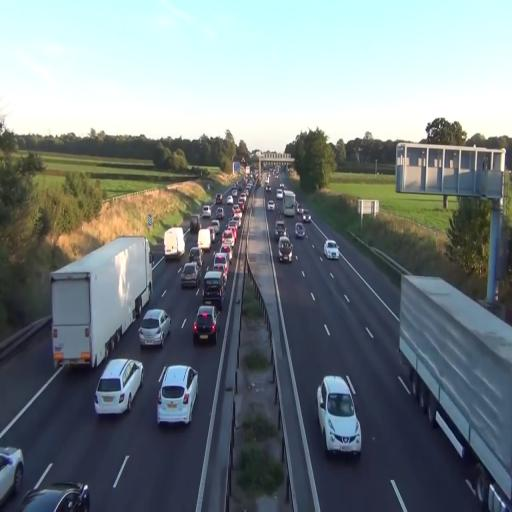vehicle: (50, 235, 152, 370), (317, 375, 362, 458), (14, 465, 90, 511), (94, 357, 143, 416), (157, 363, 199, 426), (0, 440, 25, 510), (139, 306, 171, 348), (200, 268, 224, 312), (193, 304, 218, 345), (164, 226, 185, 263), (179, 262, 200, 290), (277, 235, 293, 262), (214, 250, 228, 276), (323, 240, 339, 260), (294, 224, 306, 238)
